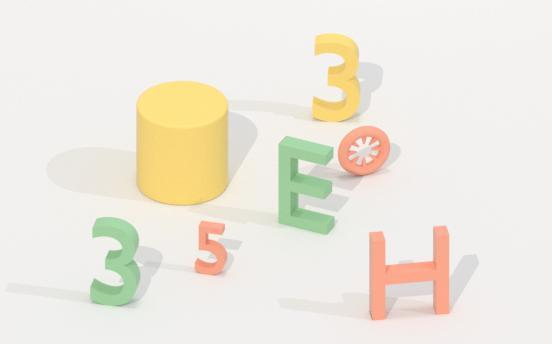chu_khoi: (369, 226, 449, 319), (278, 136, 334, 233)
dia_sao: (338, 126, 390, 175)
so_khoi: (90, 217, 139, 305), (312, 33, 359, 121), (195, 221, 227, 274)
tru: (136, 81, 228, 204)
